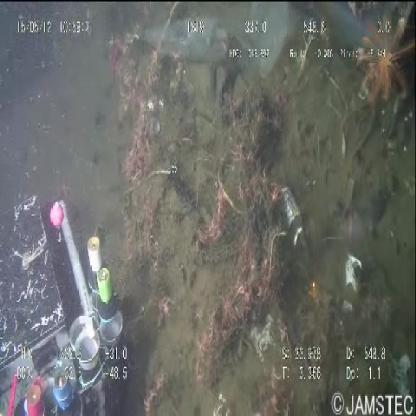Rác: (142, 0, 305, 79)
